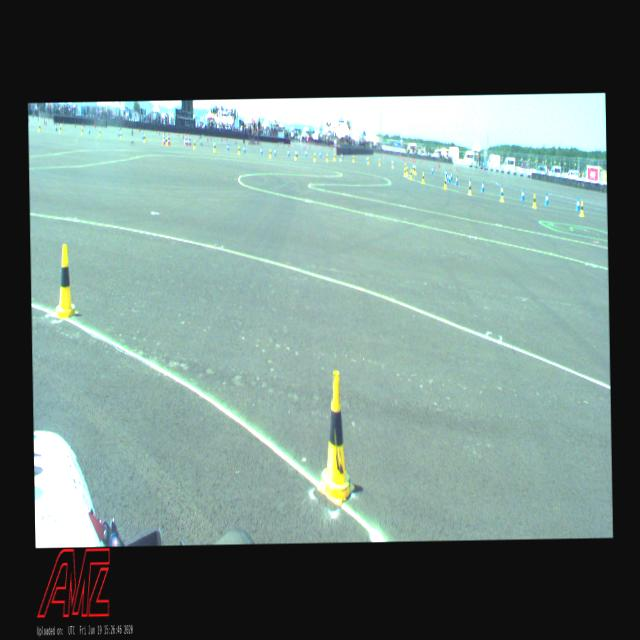blue_cone: (544, 192, 548, 205), (576, 197, 580, 210), (520, 188, 524, 200), (481, 180, 484, 192), (468, 176, 471, 188), (455, 175, 458, 185), (500, 182, 502, 195), (448, 172, 450, 182), (227, 142, 229, 150), (260, 146, 262, 154), (274, 148, 276, 156), (287, 148, 289, 156), (431, 166, 433, 174), (446, 173, 448, 181), (450, 171, 452, 179), (117, 129, 119, 136), (243, 146, 245, 152), (88, 127, 90, 133), (340, 153, 342, 159), (305, 150, 306, 156), (446, 170, 446, 177), (320, 152, 320, 158)
large_orange_cone: (162, 130, 165, 144), (184, 132, 187, 144), (188, 133, 191, 145), (168, 132, 170, 144)
yellow_cone: (314, 371, 354, 506), (54, 244, 78, 319), (578, 200, 584, 216), (499, 186, 504, 202), (532, 192, 536, 208), (467, 182, 471, 194), (444, 176, 446, 188), (409, 170, 412, 178), (422, 172, 424, 182), (404, 167, 406, 176), (313, 152, 315, 161), (269, 149, 271, 158), (238, 145, 240, 154), (213, 143, 215, 152), (294, 152, 296, 160), (326, 153, 328, 161), (193, 140, 195, 148), (38, 123, 40, 131), (352, 154, 354, 162), (378, 158, 380, 166), (392, 160, 394, 168), (333, 153, 335, 160), (339, 153, 341, 160), (59, 125, 61, 132), (81, 127, 83, 134), (98, 129, 100, 136), (120, 131, 122, 138), (144, 134, 146, 141), (406, 167, 408, 174), (414, 167, 416, 174), (366, 156, 368, 162)
